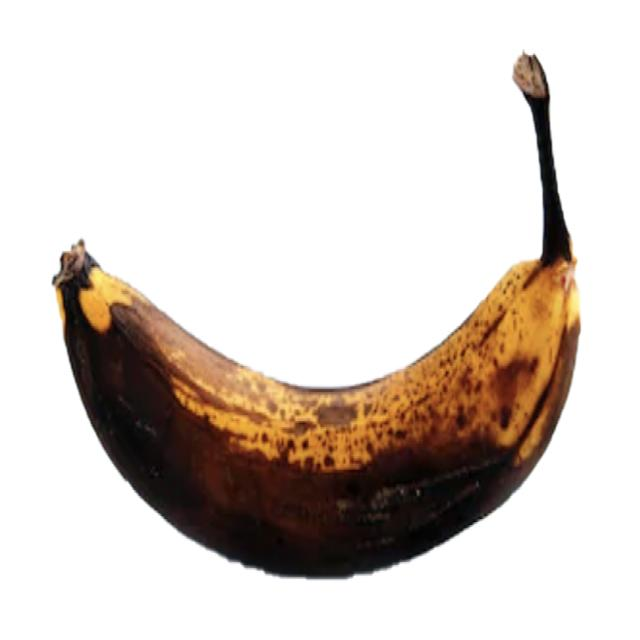rotten-banana: (52, 49, 581, 579)
